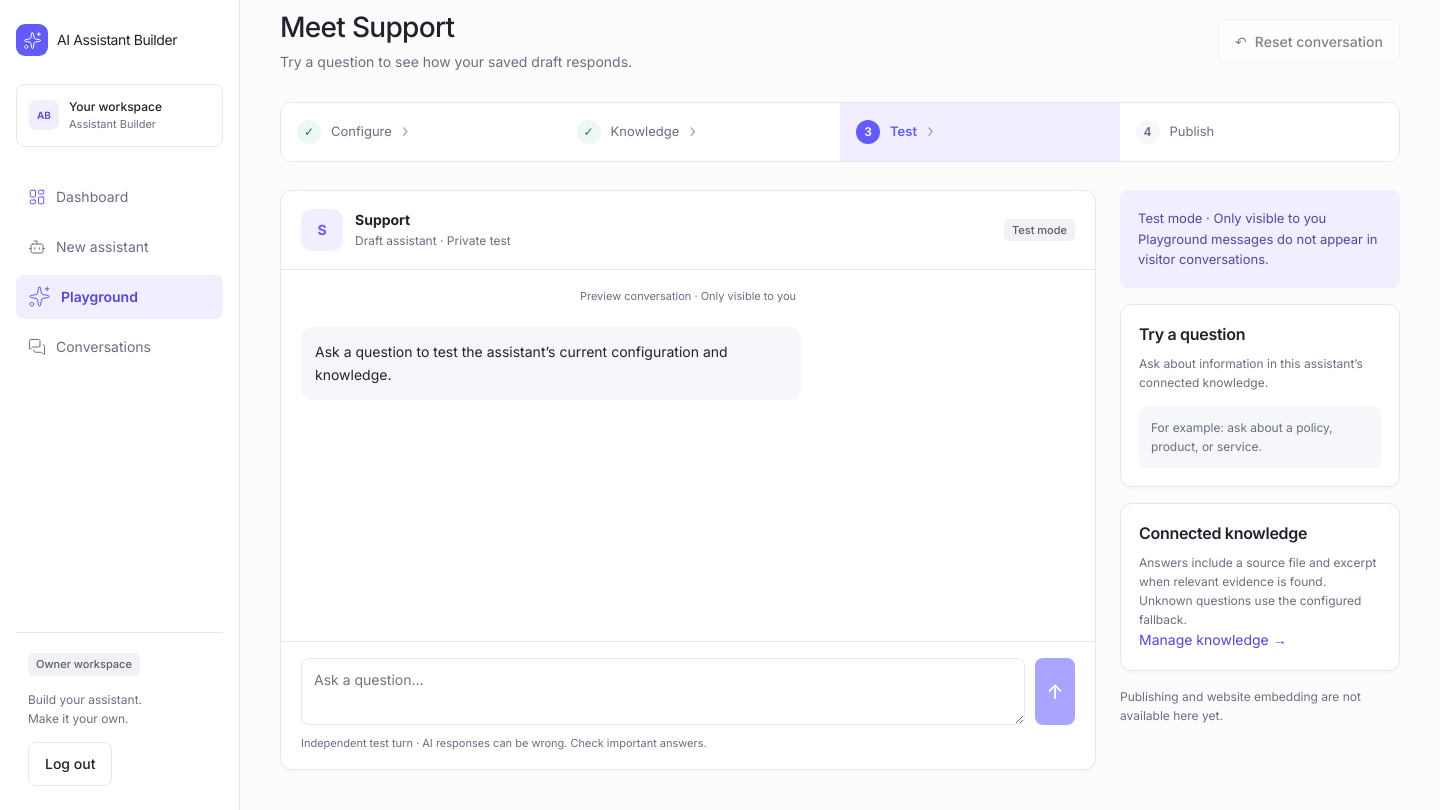
Test case: Playground screen › logs out on an expired session and removes the protected playground
(page scrolled)
Type "Question" into the text box at (663, 692), box [301, 658, 1025, 725]
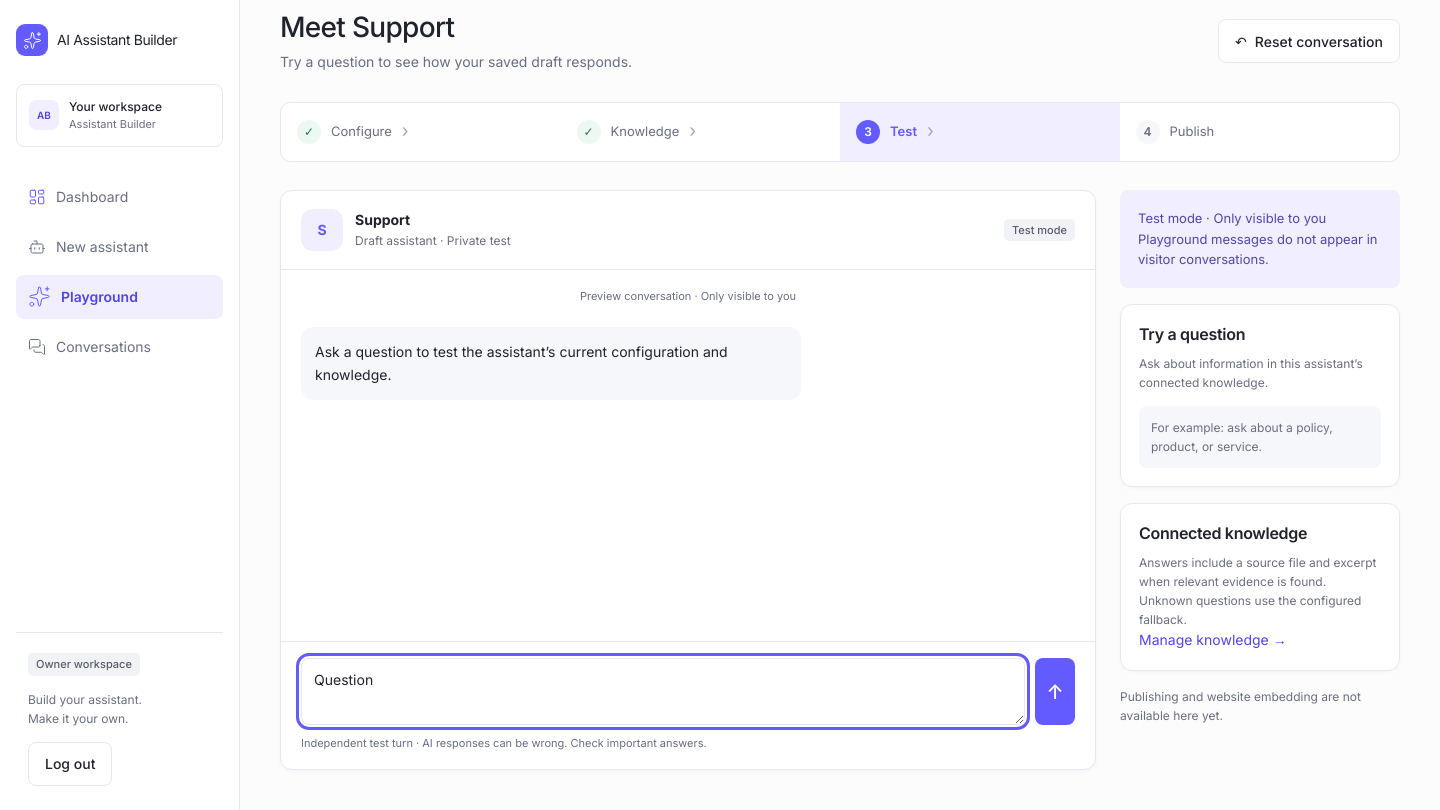
Click the button named "Send question" at (1055, 692), box [1035, 658, 1075, 725]
(page scrolled)
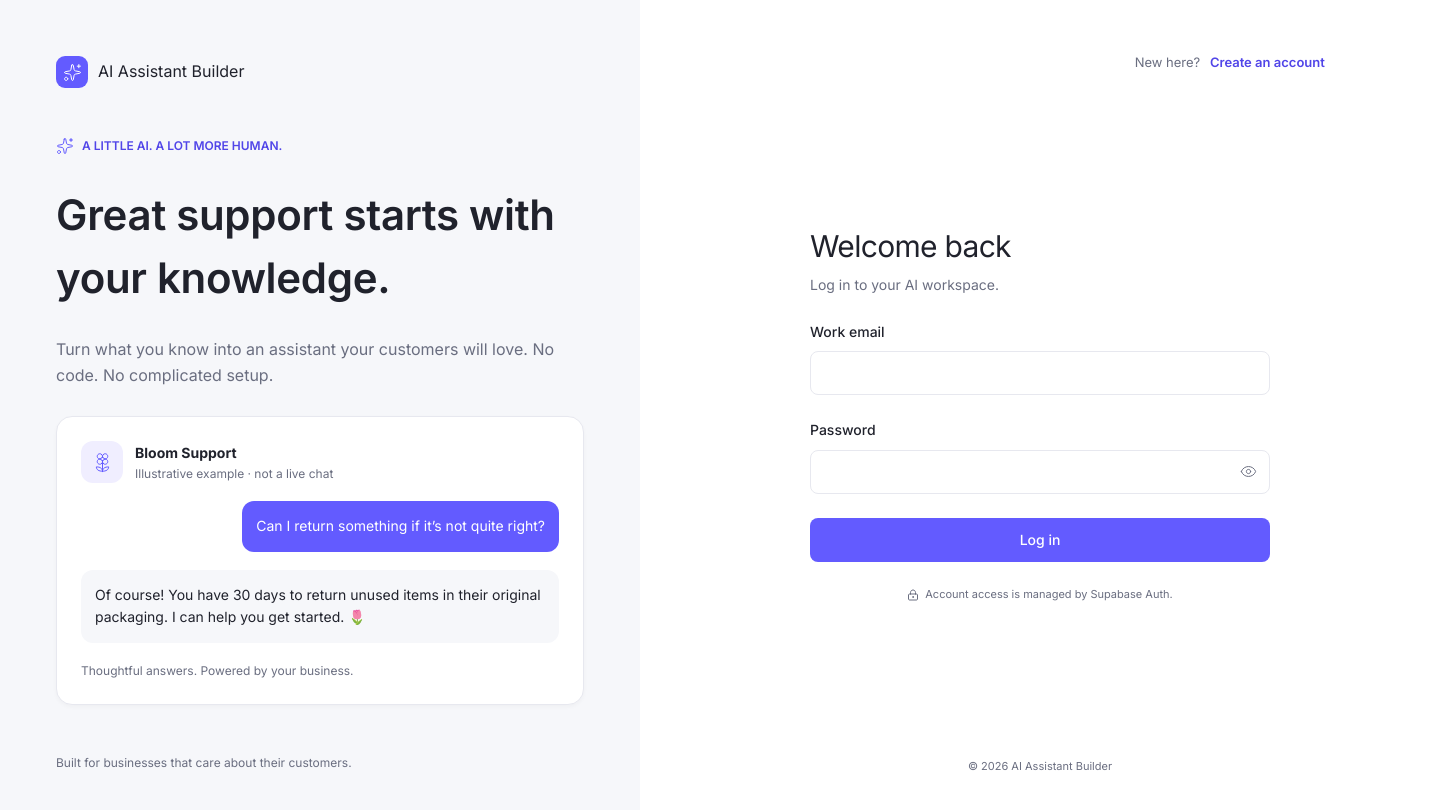
expect the heading "Welcome back" is shown: met, box [810, 228, 1011, 264]
expect the text "question" is gone: met
